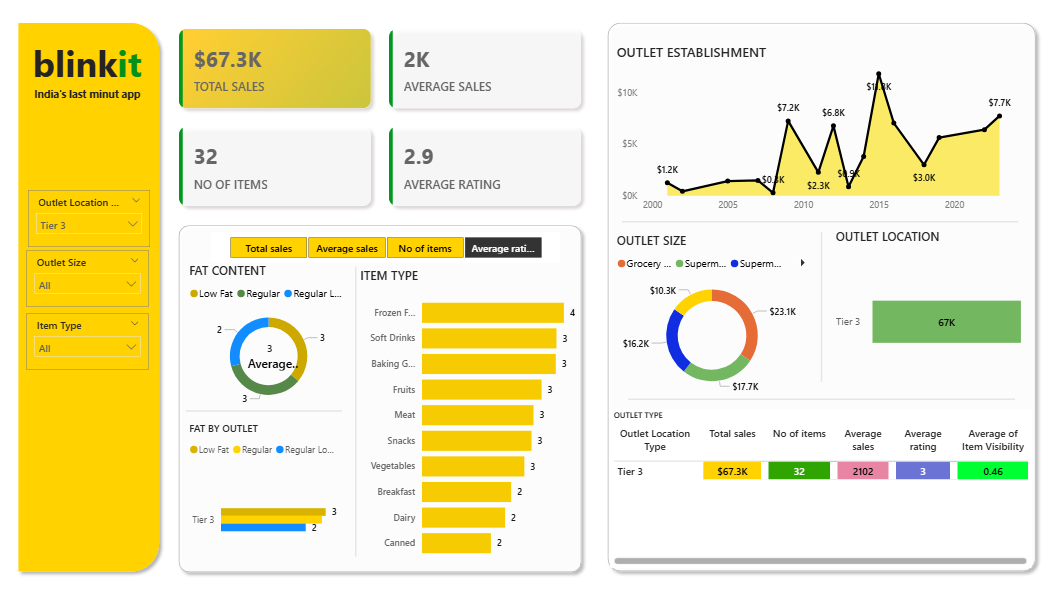

The page's visual inventory and layout, read from the dashboard file:
{"tool":"powerbi","page":{"name":"Page 1","canvas":[1400,800],"ordinal":0},"visuals":[{"type":"shape","box":[22,24,206,750],"z":0},{"type":"textbox","box":[42,48,162,98],"z":1000},{"type":"textbox","box":[42,112,162,34],"z":2000},{"type":"cardVisual","fields":{"Data":["Sheet1.Total sales","Sheet1.Average","Sheet1.No of items","Sheet1.Average rating"]},"box":[228,24.7,570.9,270.4],"z":3000},{"type":"shape","box":[236.8,293.4,554.9,480.7],"z":4000},{"type":"donutChart","title":"FAT CONTENT","fields":{"Y":["Sheet1.Average rating"],"Category":["Sheet1.Item Fat Content"]},"box":[254.5,351.7,220.9,199.7],"z":5000},{"type":"slicer","fields":{"Values":["metrics.metrics"]},"box":[287,311.1,464.8,40.7],"z":6000},{"type":"cardVisual","fields":{"Data":["Sheet1.Average rating"]},"box":[311.1,440.1,109.6,70.7],"z":7000},{"type":"clusteredBarChart","title":"FAT BY OUTLET","fields":{"Y":["Sheet1.Average rating"],"Category":["Sheet1.Outlet Location Type"],"Series":["Sheet1.Item Fat Content"]},"box":[254.5,563.8,208.5,210.3],"z":8000},{"type":"shape","box":[254.5,466.6,208.5,169.7],"z":9000},{"type":"shape","box":[420.6,358.8,121.9,387],"z":10000},{"type":"barChart","title":"ITEM TYPE","fields":{"Y":["Sheet1.Average rating"],"Category":["Sheet1.Item Type"]},"box":[482.5,358.8,296.9,401.2],"z":11000},{"type":"shape","box":[807.7,24.7,588.5,749.4],"z":12000},{"type":"lineChart","title":"OUTLET ESTABLISHMENT","fields":{"Y":["Sheet1.Total sales"],"Category":["Sheet1.Outlet Established"]},"box":[823.6,60.1,553.2,233.3],"z":13000},{"type":"shape","box":[836,263.3,528.4,68.9],"z":14000},{"type":"donutChart","title":"OUTLET SIZE","fields":{"Y":["Sheet1.Total sales"],"Category":["Sheet1.Outlet Size"]},"box":[823.6,311.1,263.3,224.5],"z":15000},{"type":"shape","box":[1071,311.1,60.1,199.7],"z":16000},{"type":"funnel","title":" OUTLET LOCATION","fields":{"Y":["Sum(Sheet1.Sales)"],"Category":["Sheet1.Outlet Location Type"]},"box":[1115.2,305.8,261.6,228],"z":17000},{"type":"shape","box":[843,519.6,516.1,30],"z":18000},{"type":"pivotTable","title":"OUTLET TYPE","fields":{"Rows":["Sheet1.Outlet Location Type"],"Values":["Sheet1.Total sales","Sheet1.No of items","Sheet1.Average sales","Sheet1.Average rating","Avg(Sheet1.Item Visibility)"]},"box":[820,547.9,562,212.1],"z":19000},{"type":"slicer","fields":{"Values":["Sheet1.Outlet Location Type"]},"box":[44.2,256.3,162.6,76],"z":20000},{"type":"slicer","fields":{"Values":["Sheet1.Outlet Size"]},"box":[42.4,335.8,162.6,76],"z":21000},{"type":"slicer","fields":{"Values":["Sheet1.Item Type"]},"box":[42.4,420.6,162.6,76],"z":22000}]}

Visuals, with their boxes in screenshot pixels (x1, y1, x2, y2), scaled from the page's 1400x800 canvas onto the 1042x598 screenshot:
shape: <bbox>16, 18, 170, 579</bbox>
textbox: <bbox>31, 36, 152, 109</bbox>
textbox: <bbox>31, 84, 152, 109</bbox>
cardVisual - Sheet1.Total sales x Sheet1.Average: <bbox>170, 18, 595, 221</bbox>
shape: <bbox>176, 219, 589, 579</bbox>
"FAT CONTENT" donutChart: <bbox>189, 263, 354, 412</bbox>
slicer - metrics.metrics: <bbox>214, 233, 560, 263</bbox>
cardVisual - Sheet1.Average rating: <bbox>232, 329, 313, 382</bbox>
"FAT BY OUTLET" clusteredBarChart: <bbox>189, 421, 345, 579</bbox>
shape: <bbox>189, 349, 345, 476</bbox>
shape: <bbox>313, 268, 404, 557</bbox>
"ITEM TYPE" barChart: <bbox>359, 268, 580, 568</bbox>
shape: <bbox>601, 18, 1039, 579</bbox>
"OUTLET ESTABLISHMENT" lineChart: <bbox>613, 45, 1025, 219</bbox>
shape: <bbox>622, 197, 1016, 248</bbox>
"OUTLET SIZE" donutChart: <bbox>613, 233, 809, 400</bbox>
shape: <bbox>797, 233, 842, 382</bbox>
" OUTLET LOCATION" funnel: <bbox>830, 229, 1025, 399</bbox>
shape: <bbox>627, 388, 1012, 411</bbox>
"OUTLET TYPE" pivotTable: <bbox>610, 410, 1029, 568</bbox>
slicer - Sheet1.Outlet Location Type: <bbox>33, 192, 154, 248</bbox>
slicer - Sheet1.Outlet Size: <bbox>32, 251, 153, 308</bbox>
slicer - Sheet1.Item Type: <bbox>32, 314, 153, 371</bbox>
